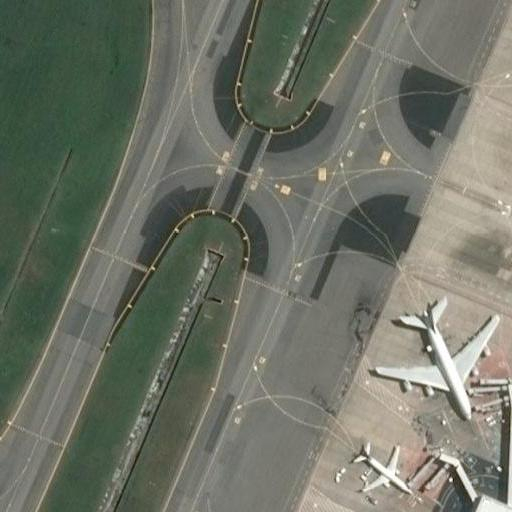Aircraft: (367, 296, 498, 420), (350, 441, 410, 497)
